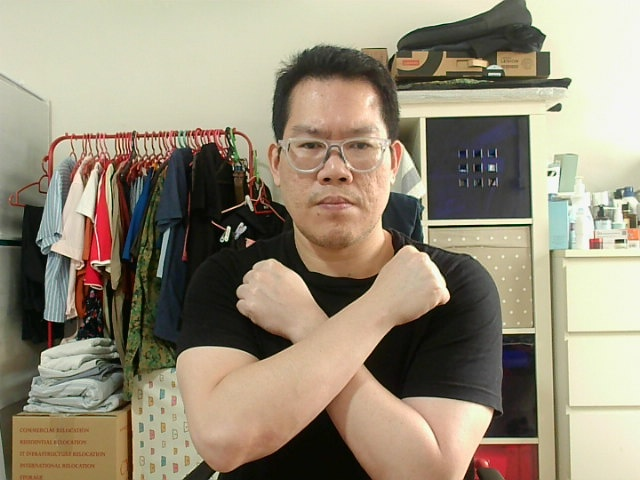love: (382, 248, 447, 306)
